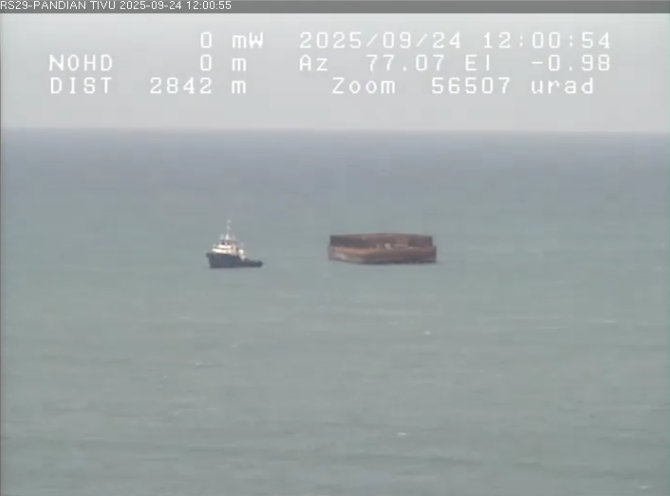BARGE: (301, 215, 465, 291)
OFFSHORE_SUPPLY_VESSEL: (194, 215, 278, 284)
TOWING: (159, 193, 517, 323)
